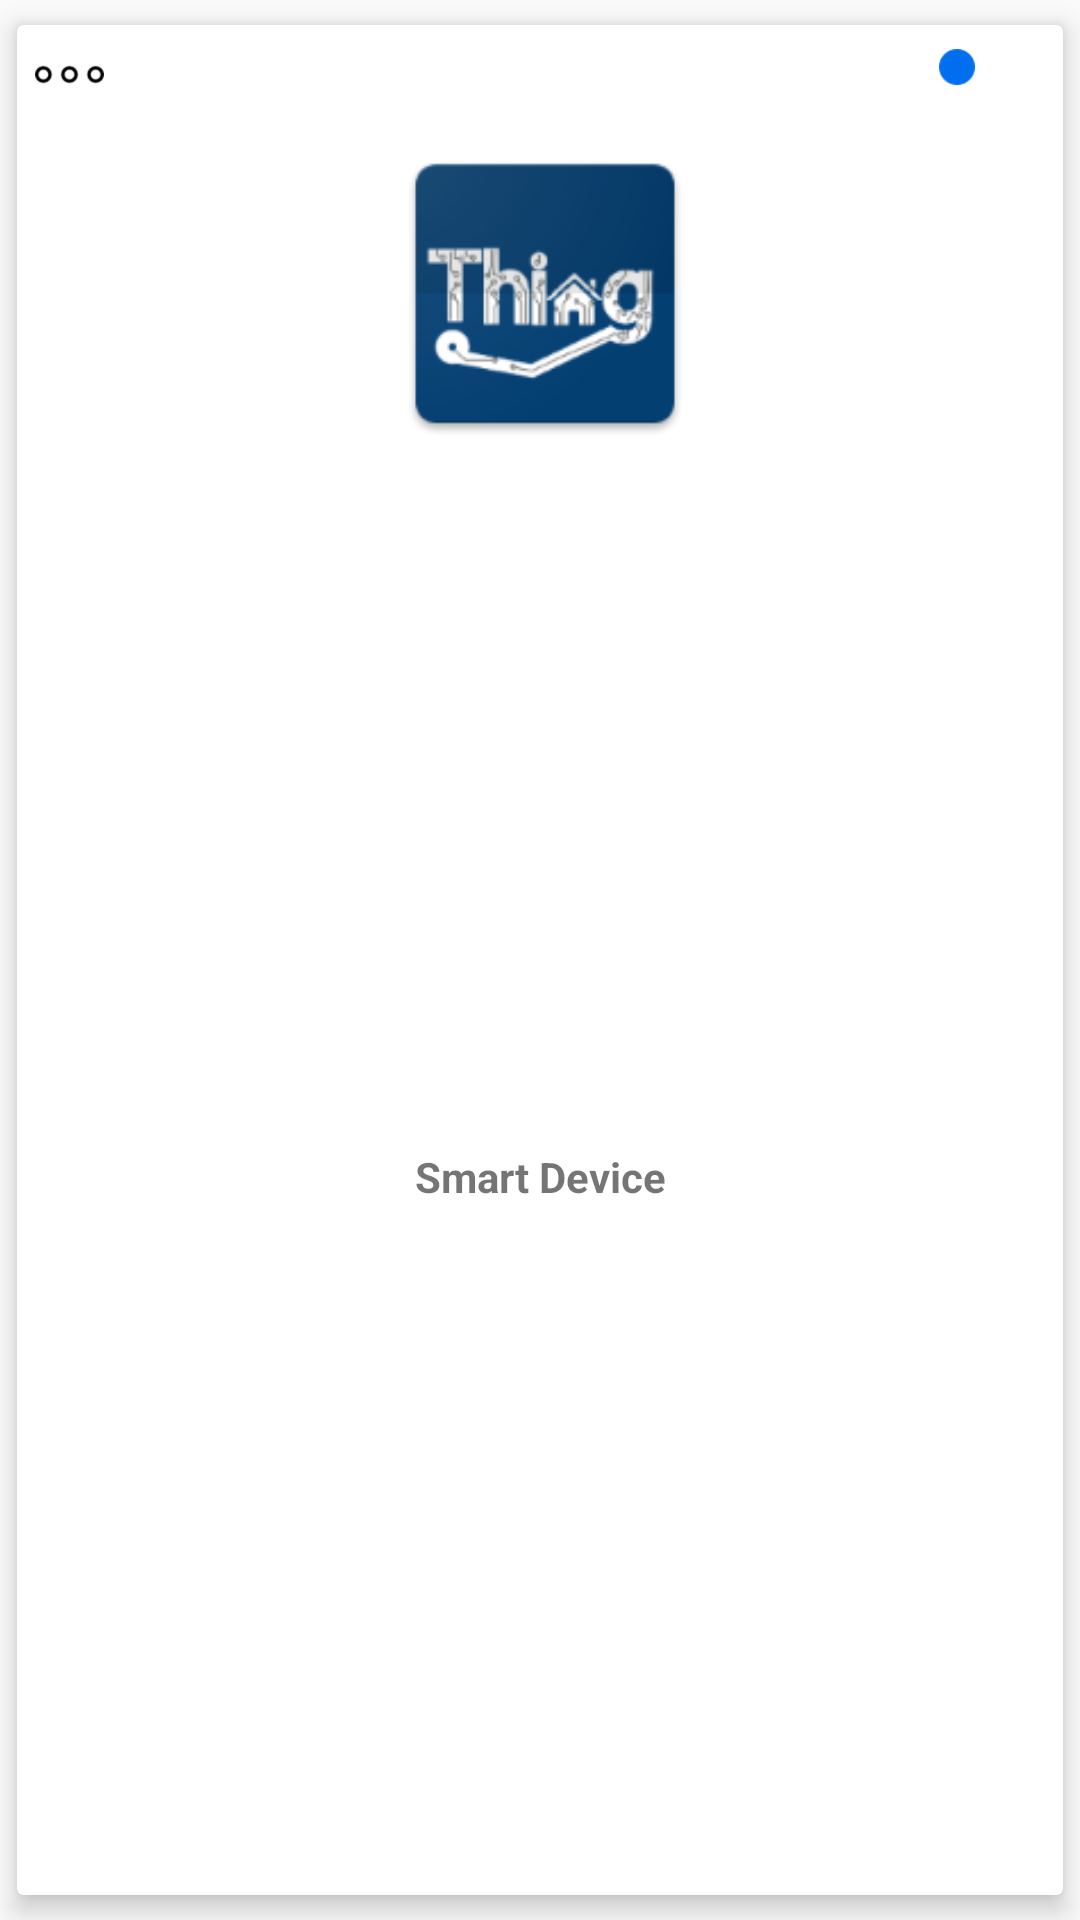

Icons on this 1080x1920 Android screen, each with its box as Rect(x1, y1, x2, y2):
more: Rect(35, 65, 104, 84)
